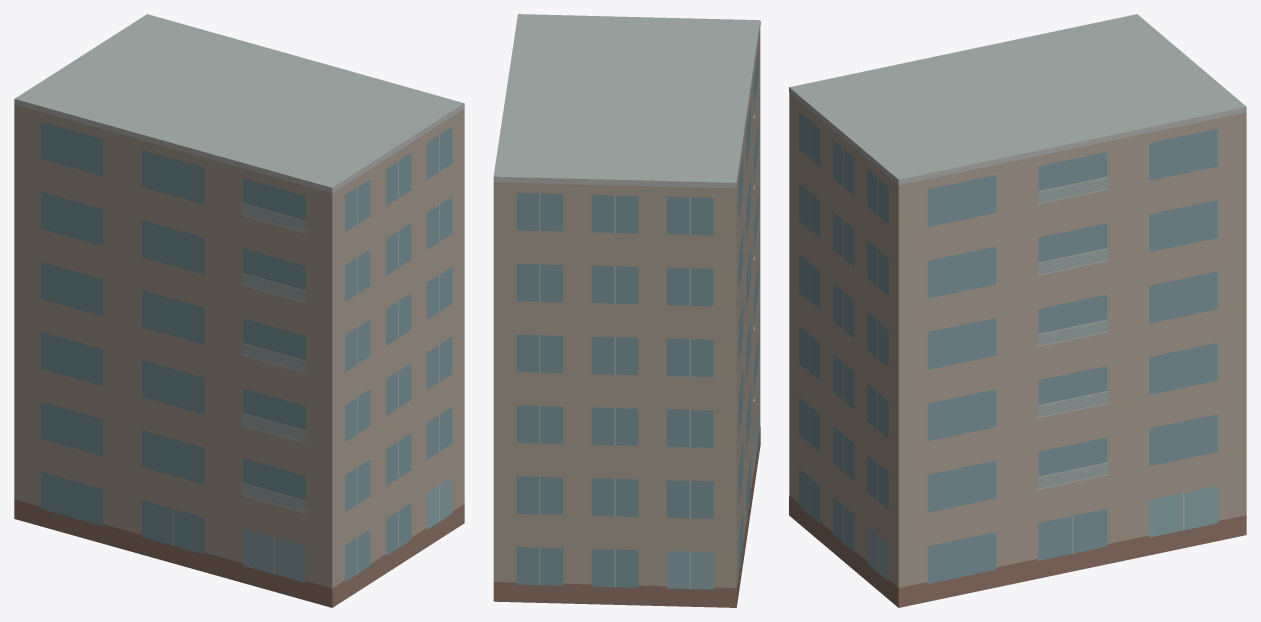
The model's file is survey-upis-32667654.glb.
The picture shows the model from 3 angles, left to right: view 1: azimuth 30°, elevation 25°; view 2: azimuth 150°, elevation 25°; view 3: azimuth 270°, elevation 25°; orthographic projection.
Visible parts, largest first — view 1: survey-upis-32667654.tmp; view 2: survey-upis-32667654.tmp; view 3: survey-upis-32667654.tmp.
Boxes of the visible parts, x1,y1,x2,y2 form: survey-upis-32667654.tmp: (14,14,464,607); survey-upis-32667654.tmp: (493,14,760,607); survey-upis-32667654.tmp: (789,14,1246,607).
Bounding box in the file's own units: 15.61 × 18.8 × 18.22.
